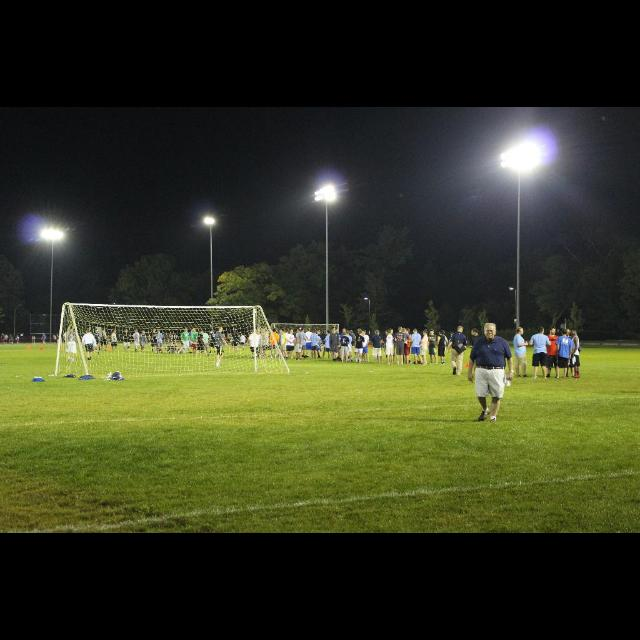Football: (111, 372, 121, 378)
